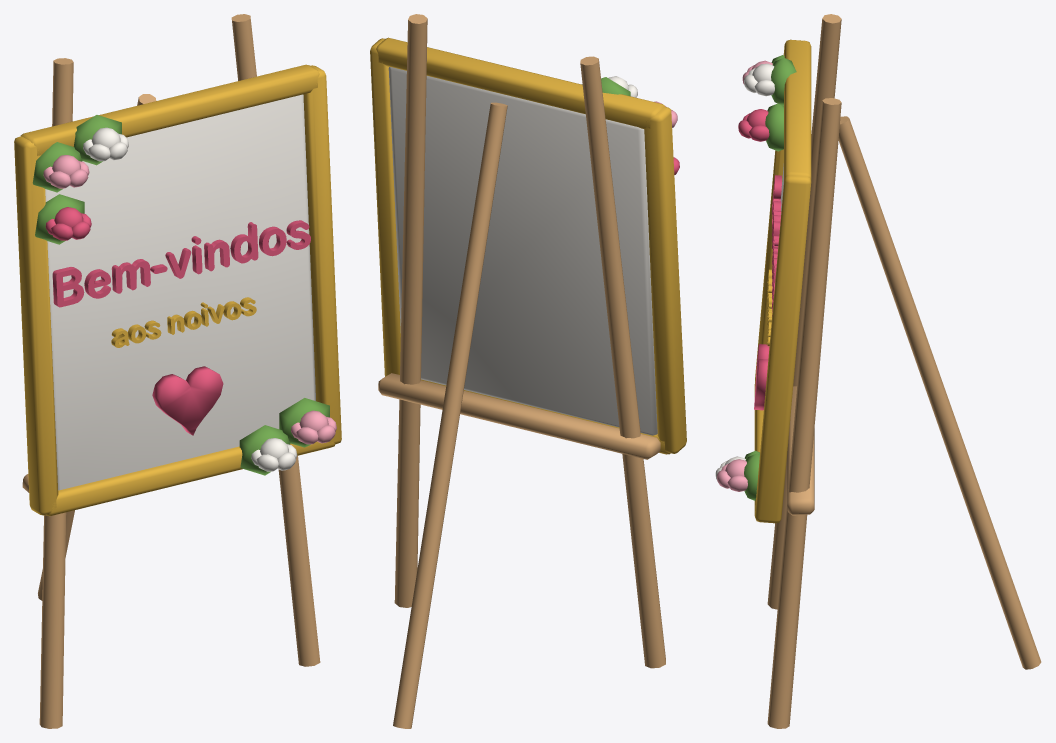
File: placa_boas_vindas.glb
3 views of the same model, side by side, from view 1: azimuth 30°, elevation 25°; view 2: azimuth 150°, elevation 25°; view 3: azimuth 270°, elevation 25° (orthographic). The views are drawn at different scales.
Visible parts, largest first — view 1: Placa_Boas_Vindas; view 2: Placa_Boas_Vindas; view 3: Placa_Boas_Vindas.
Boxes of the visible parts, bbox=[...] form: Placa_Boas_Vindas: bbox=[14, 14, 341, 728]; Placa_Boas_Vindas: bbox=[370, 14, 686, 728]; Placa_Boas_Vindas: bbox=[715, 14, 1041, 728].
Size of the model in its own units: 0.75 by 1.51 by 0.7328.
